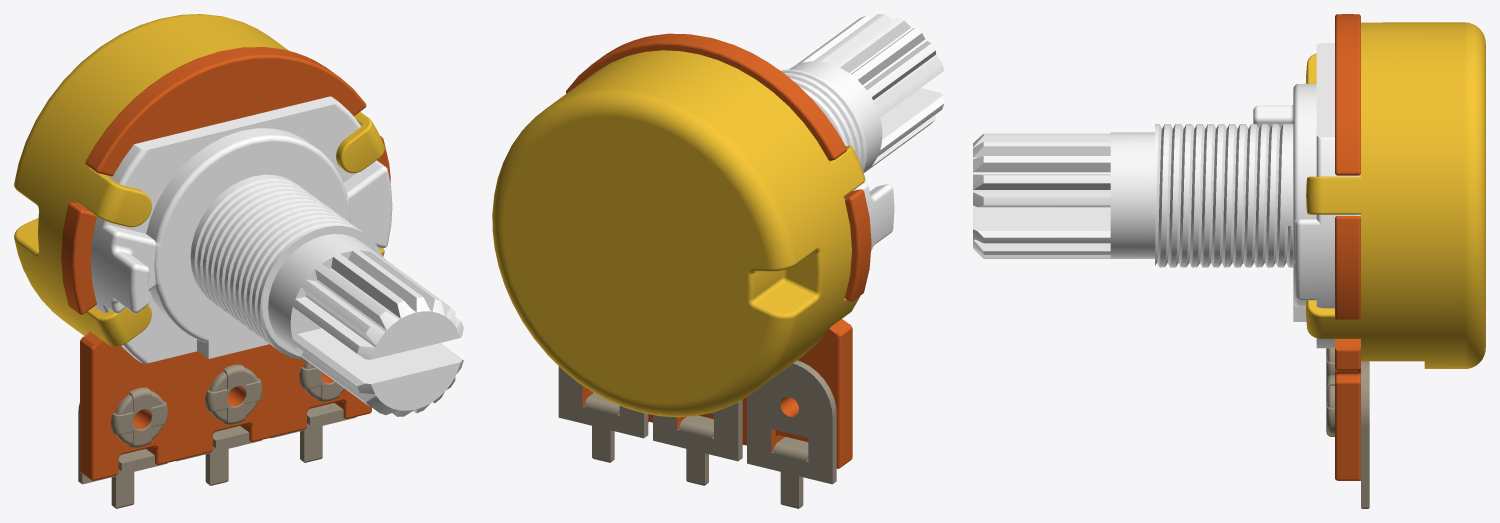
The model's file is Potenciómetro v1.fbx.
The picture shows the model from 3 angles, left to right: view 1: azimuth 30°, elevation 25°; view 2: azimuth 150°, elevation 25°; view 3: azimuth 270°, elevation 25°; orthographic projection.
Parts seen in each view (by area): view 1: Body1; view 2: Body1; view 3: Body1.
Part boxes in pixels (bbox=[...]): Body1: bbox=[14, 14, 463, 508]; Body1: bbox=[492, 14, 944, 508]; Body1: bbox=[973, 14, 1485, 508].
Bounding box in the file's own units: 17.2 × 22.4 × 24.25.
